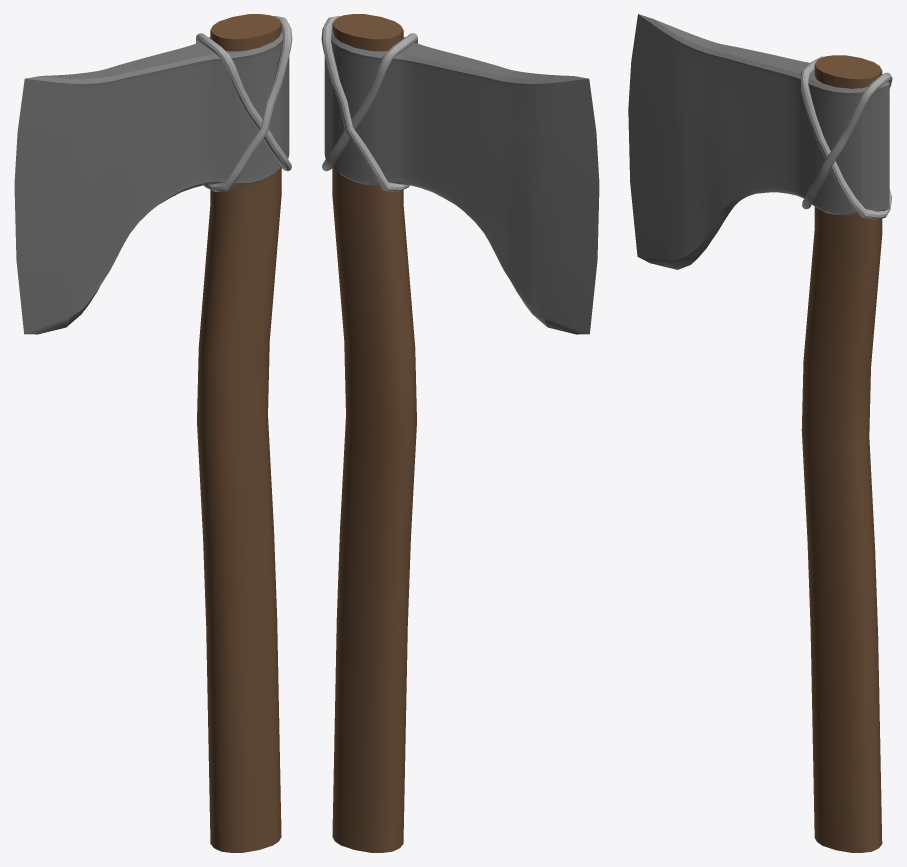
Rendered from Machado.fbx.
3 renders of one model, left to right at view 1: azimuth 30°, elevation 25°; view 2: azimuth 150°, elevation 25°; view 3: azimuth 330°, elevation 25°, orthographic. The views are drawn at different scales.
Parts seen in each view (by area): view 1: pCube4; view 2: pCube4; view 3: pCube4.
Boxes of the visible parts, bbox=[...] form: pCube4: bbox=[14, 14, 292, 852]; pCube4: bbox=[321, 14, 599, 852]; pCube4: bbox=[628, 14, 892, 852].
Bounding box in the file's own units: 0.6622 × 1.88 × 0.1828.
